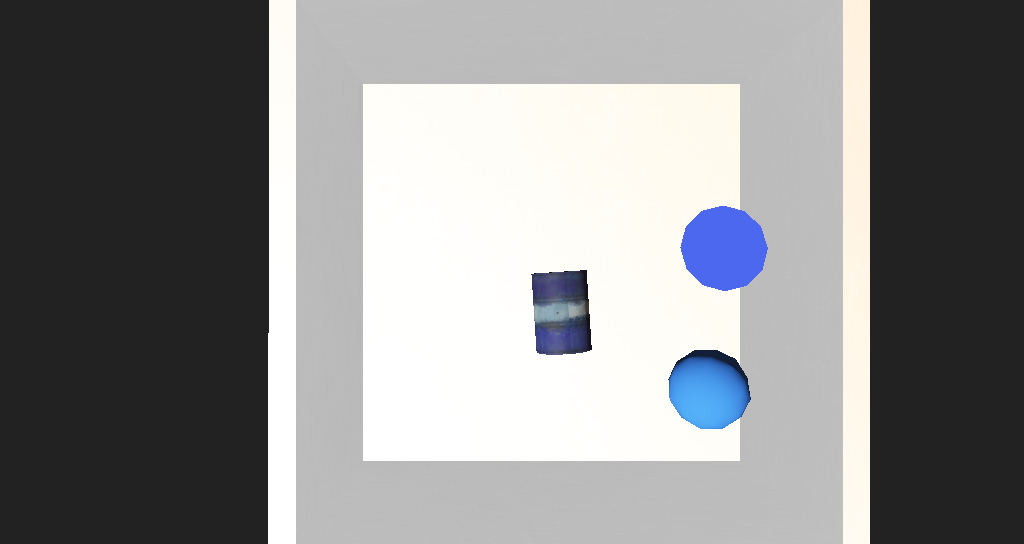cone: (485, 267, 539, 315)
cylinder: (596, 234, 670, 282)
sphere: (593, 313, 660, 356)
